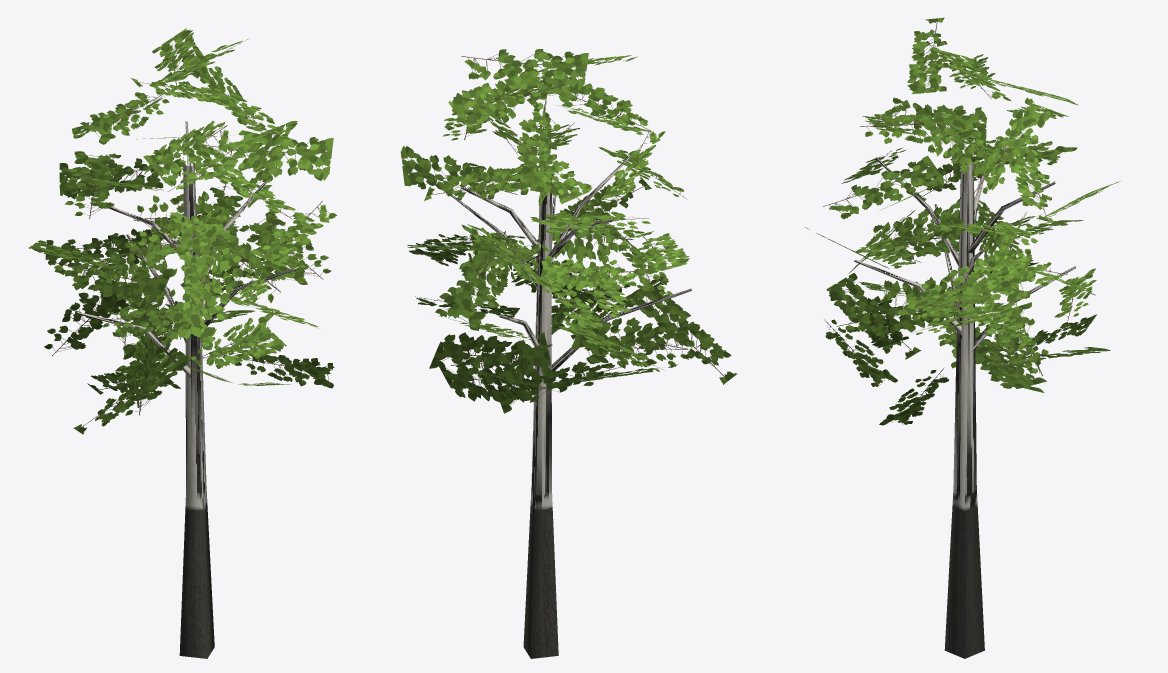
Rendered from mid.glb.
3 renders of one model, left to right at view 1: azimuth 30°, elevation 25°; view 2: azimuth 150°, elevation 25°; view 3: azimuth 270°, elevation 25°, orthographic.
Parts seen in each view (by area): view 1: birch_04; view 2: birch_04; view 3: birch_04.
Part boxes in pixels (x1=…): birch_04: x1=28, y1=28, x2=336, y2=658; birch_04: x1=400, y1=49, x2=737, y2=658; birch_04: x1=805, y1=17, x2=1120, y2=658.
Size of the model in its own units: 10.3 by 19.05 by 10.38.
Materials: 2 (2 with a texture image).
